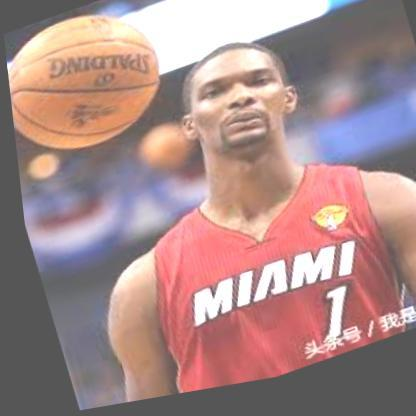basketball: (1, 0, 174, 169)
